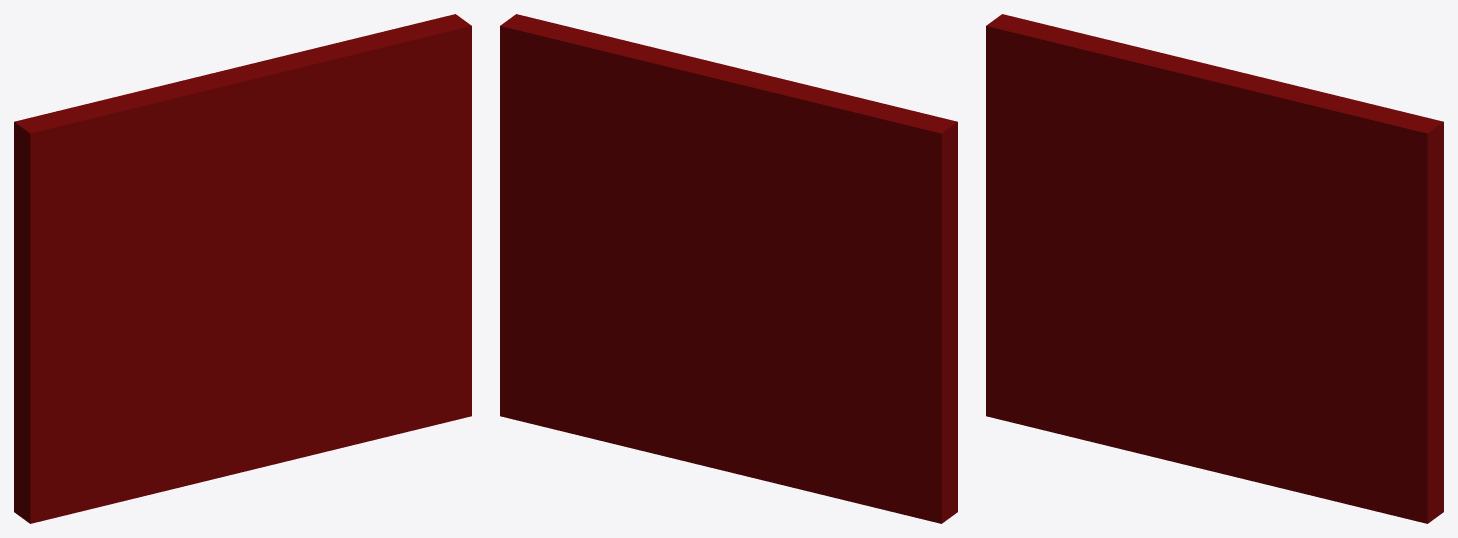
The model's file is babyGate.fbx.
The picture shows the model from 3 angles, left to right: view 1: azimuth 30°, elevation 25°; view 2: azimuth 150°, elevation 25°; view 3: azimuth 330°, elevation 25°; orthographic projection.
Parts seen in each view (by area): view 1: babyGate_Col; view 2: babyGate_Col; view 3: babyGate_Col.
Part boxes in pixels (x1,y1,x2,y2): babyGate_Col: (14,14,471,523); babyGate_Col: (500,14,957,523); babyGate_Col: (986,14,1443,523).
Bounding box in the file's own units: 126 × 106 × 8.
